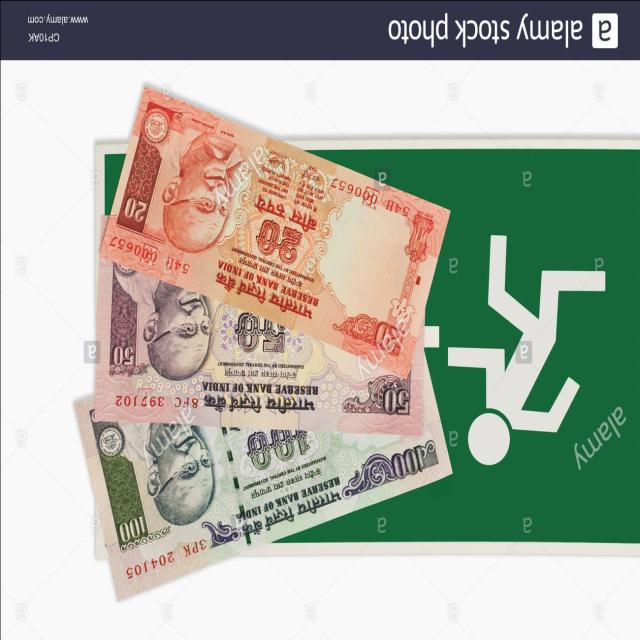20IndianRupees: (97, 83, 454, 363)
